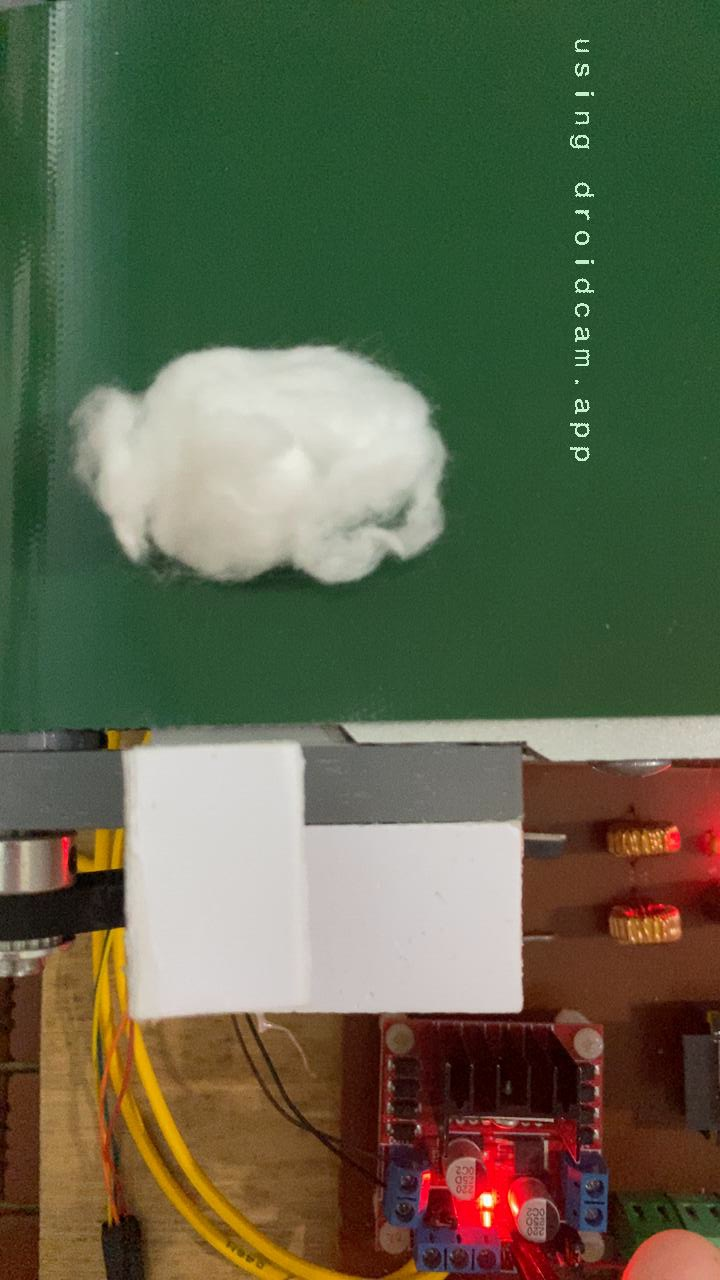cotton: (68, 338, 455, 591)
